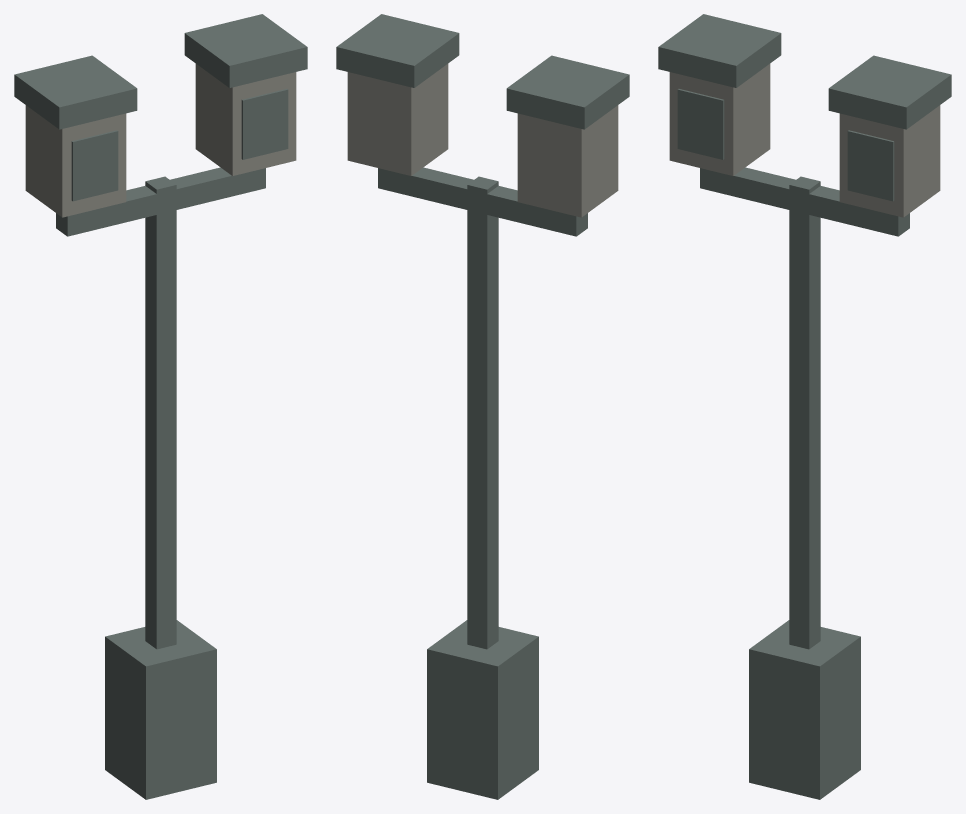
File: SM_Farola_v2_LOD0.fbx
The picture shows the model from 3 angles, left to right: view 1: azimuth 30°, elevation 25°; view 2: azimuth 150°, elevation 25°; view 3: azimuth 330°, elevation 25°; orthographic projection.
Visible parts, largest first — view 1: SM_urbano_v7_LOD0; view 2: SM_urbano_v7_LOD0; view 3: SM_urbano_v7_LOD0.
Boxes of the visible parts, x1,y1,x2,y2 form: SM_urbano_v7_LOD0: (14,14,307,799); SM_urbano_v7_LOD0: (336,14,629,799); SM_urbano_v7_LOD0: (658,14,951,799).
Bounding box in the file's own units: 1.75 × 4.82 × 0.55.
